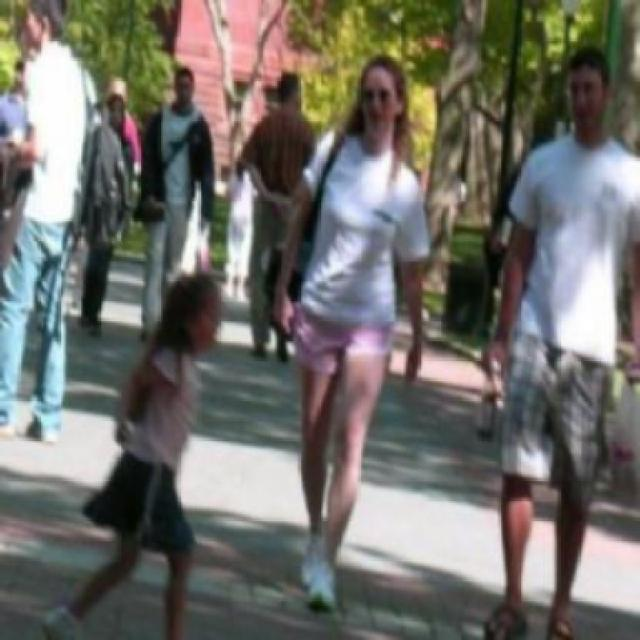Person: (487, 47, 639, 638), (45, 278, 208, 638), (0, 0, 91, 452), (142, 61, 215, 330), (239, 66, 304, 360)
